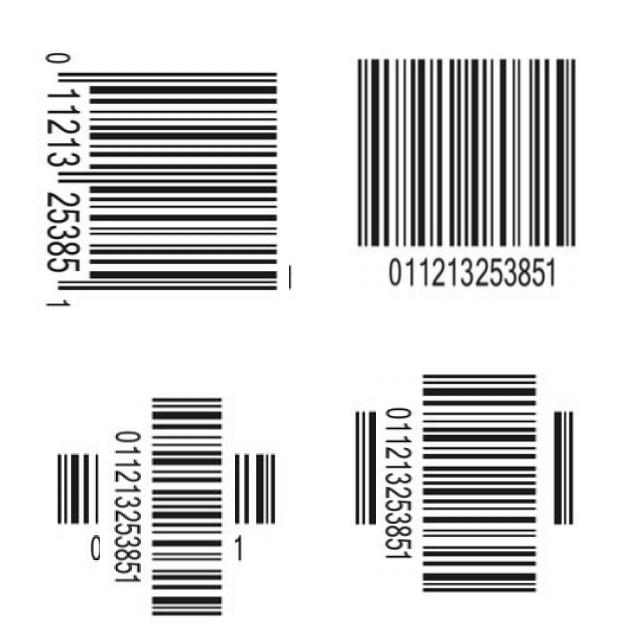Barkod: (28, 44, 292, 308), (347, 45, 582, 290), (362, 382, 566, 585), (76, 416, 259, 600)
